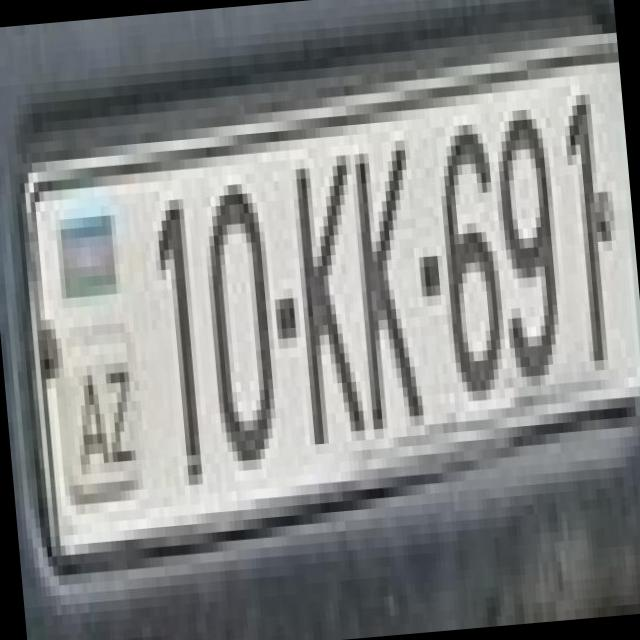0: (188, 162, 280, 463)
1: (129, 168, 211, 478), (540, 64, 622, 372)
6: (424, 103, 504, 393)
9: (478, 88, 562, 378)
K: (268, 125, 374, 436), (333, 110, 432, 420)
